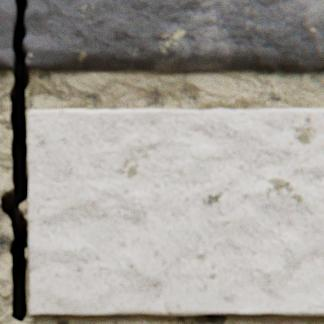brick: (27, 109, 323, 316)
broken_brick: (23, 0, 323, 72), (0, 0, 16, 71)
crack: (0, 0, 29, 323)
